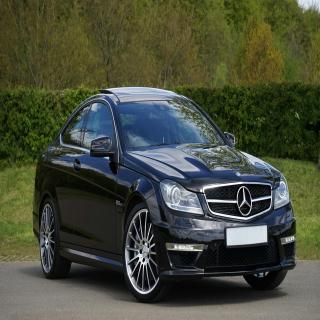Normal_vehicle: (34, 88, 296, 303)
